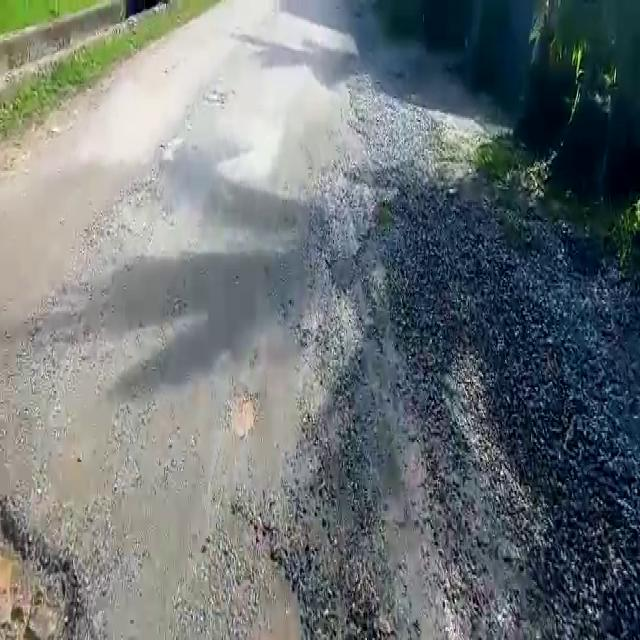Pothole: (0, 485, 89, 640)
